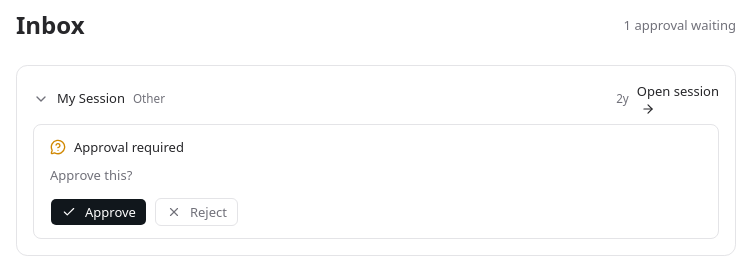
Test: InboxPage approval items › collapses an item when its toggle is clicked and hides the card
Click the button "My Session" at x=91, y=98, box [33,88,608,109]
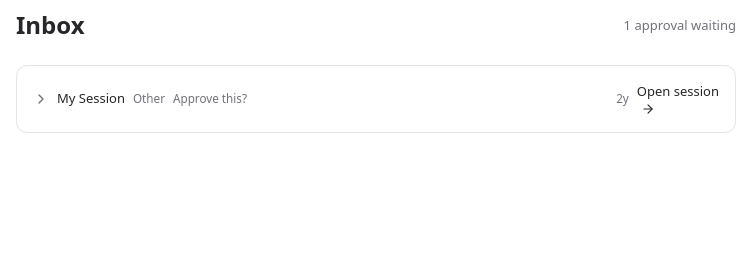
Expected: the message with test id "approval-card" is gone
